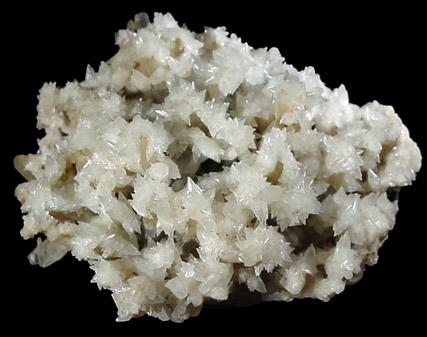calcite: (14, 13, 422, 322)
